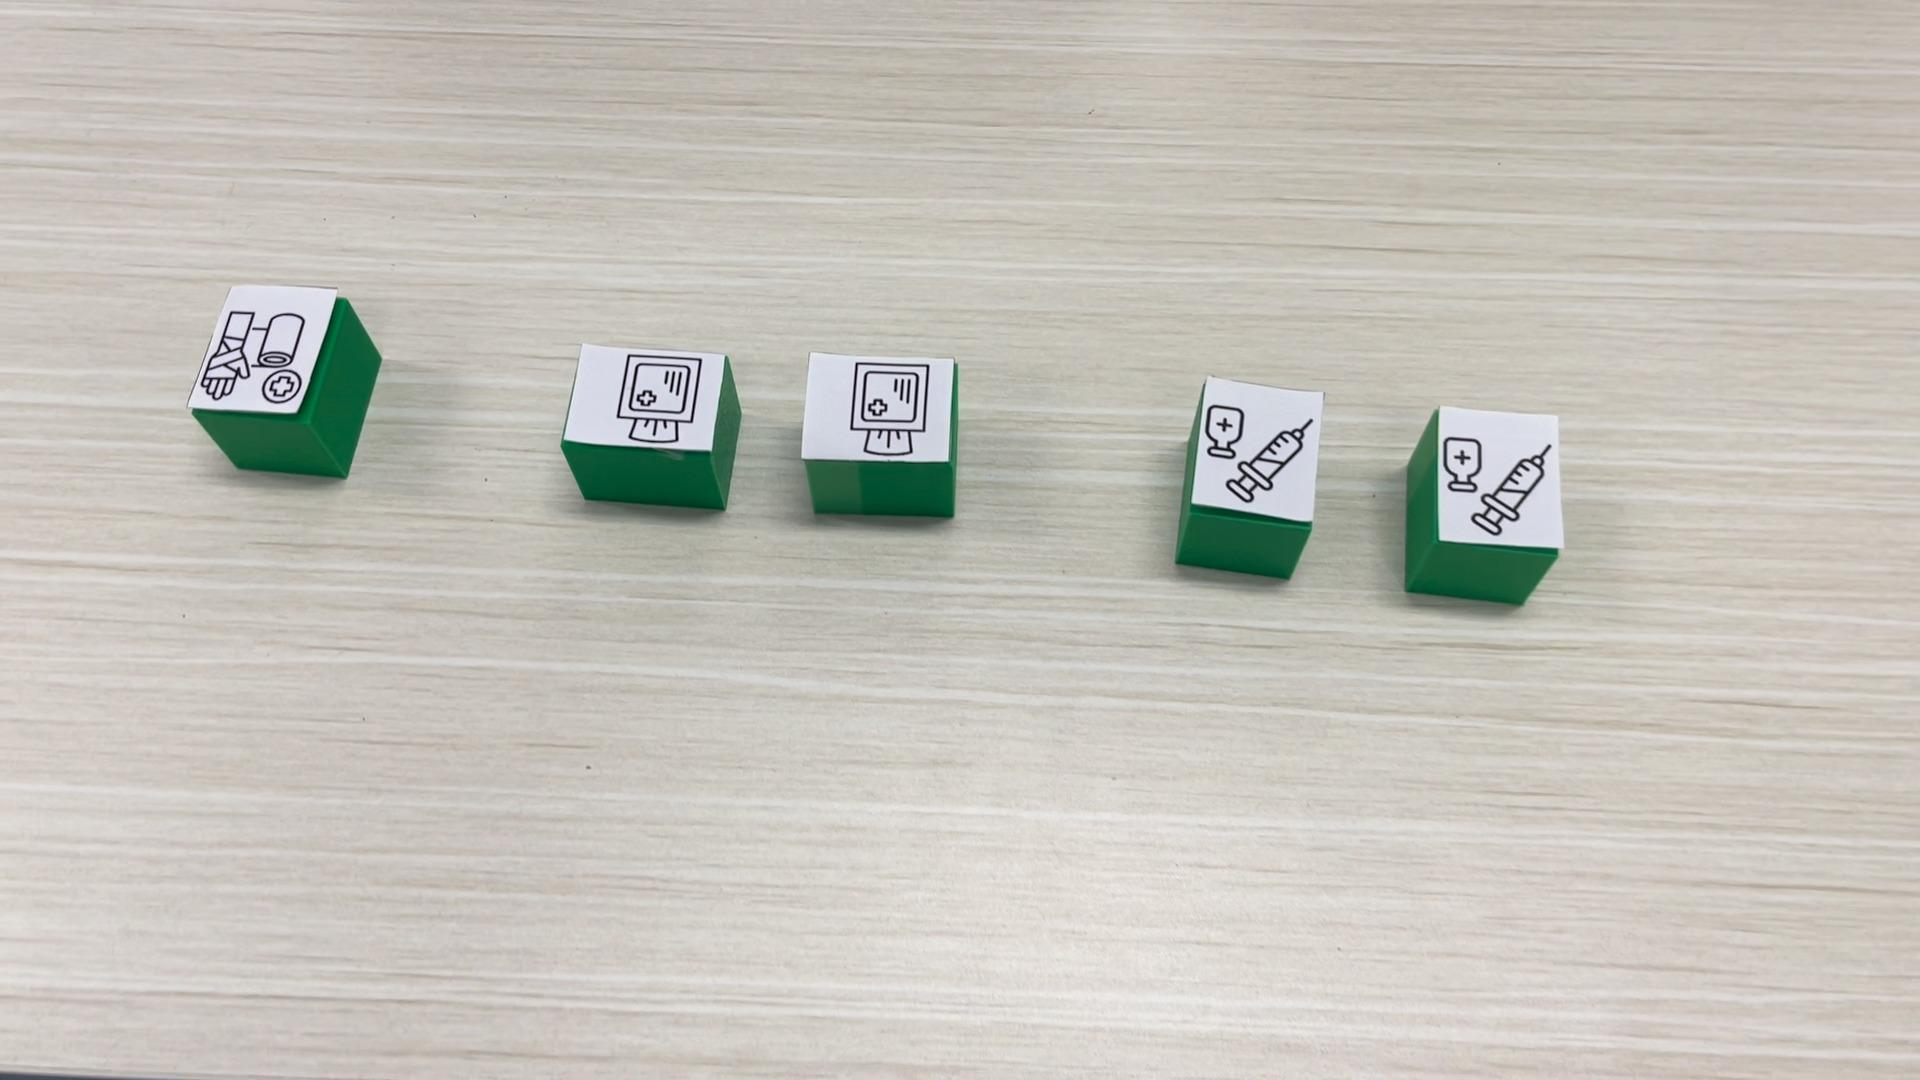Bandages: (189, 281, 382, 477)
Gauze: (560, 342, 740, 512), (800, 349, 957, 518)
antiseptic cream: (1400, 404, 1565, 605), (1174, 373, 1321, 582)
